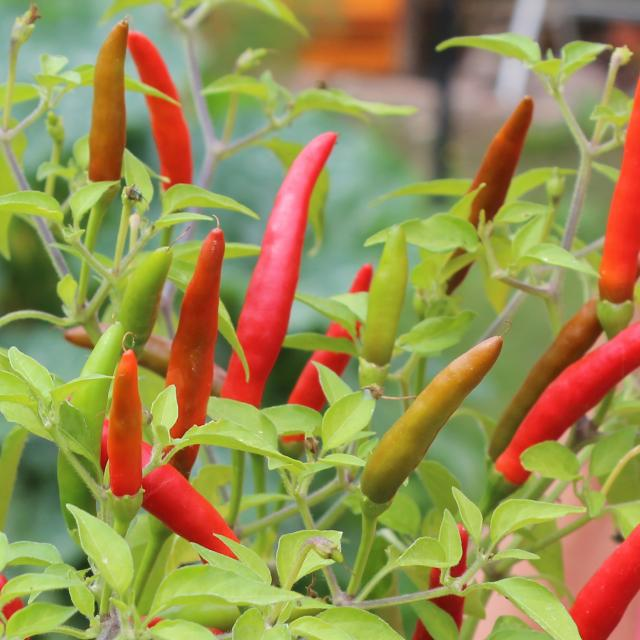red chili: (215, 120, 350, 441), (140, 217, 251, 484), (86, 336, 157, 522)
